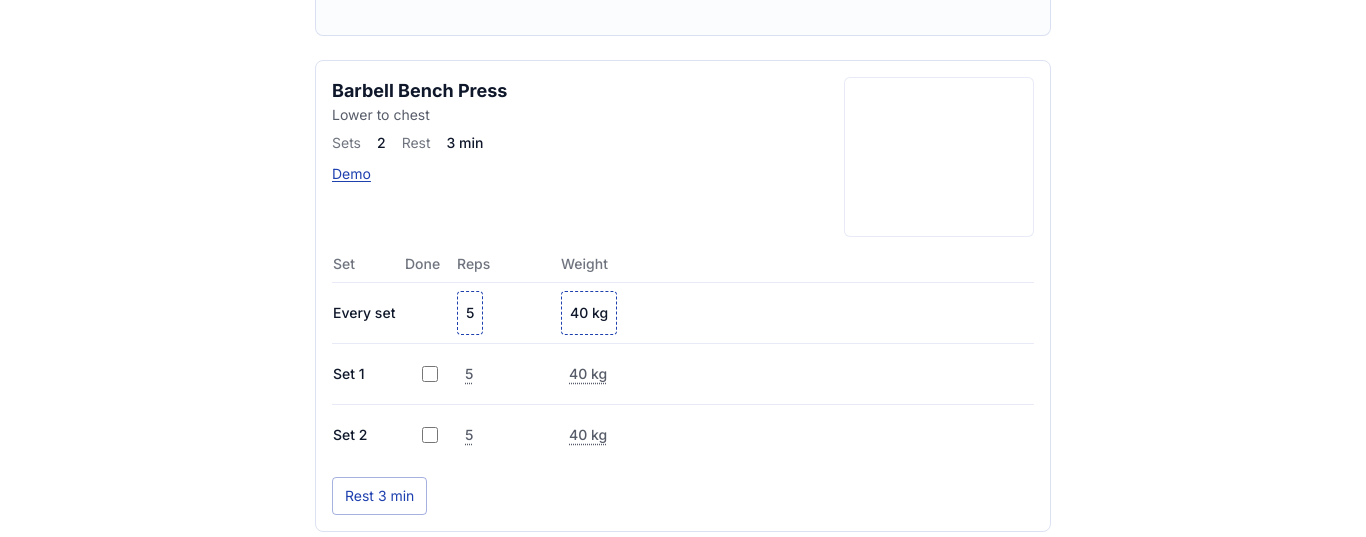
Scenario: WorkoutApp › should update the day progress as sets are checked off
The width and height of the screenshot is (1366, 537).
(page scrolled)
Click the checkbox named "Barbell Bench Press set 1": (430, 374) [422,366,438,382]
(page scrolled)
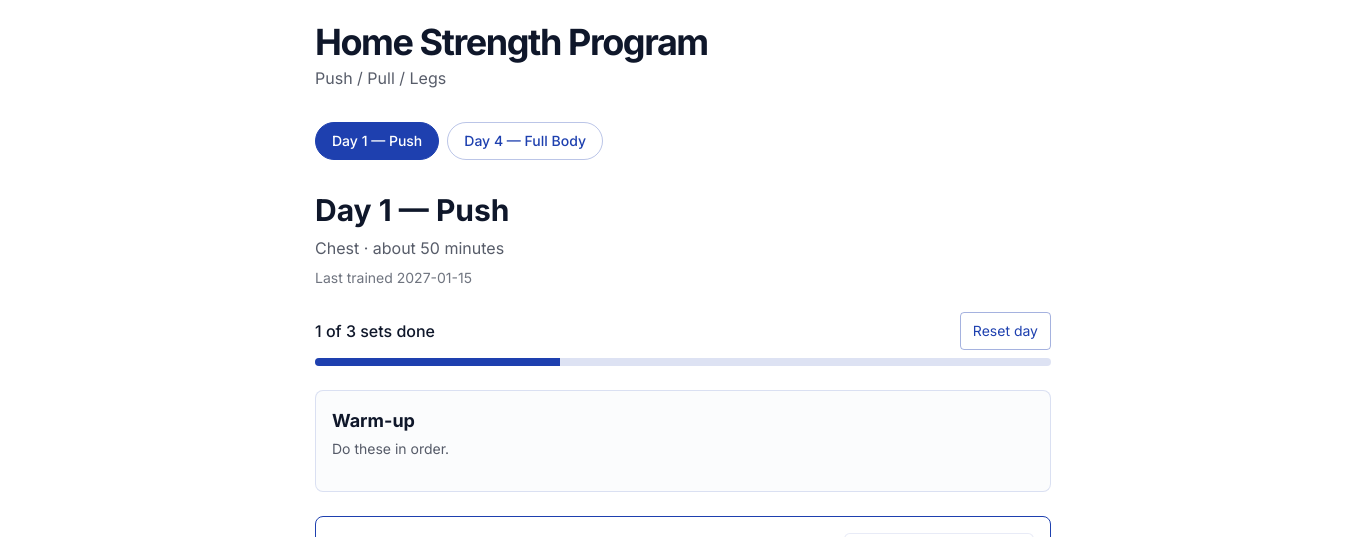
expect the text "1 of 3 sets done" is shown: met, box [315,319,435,343]
